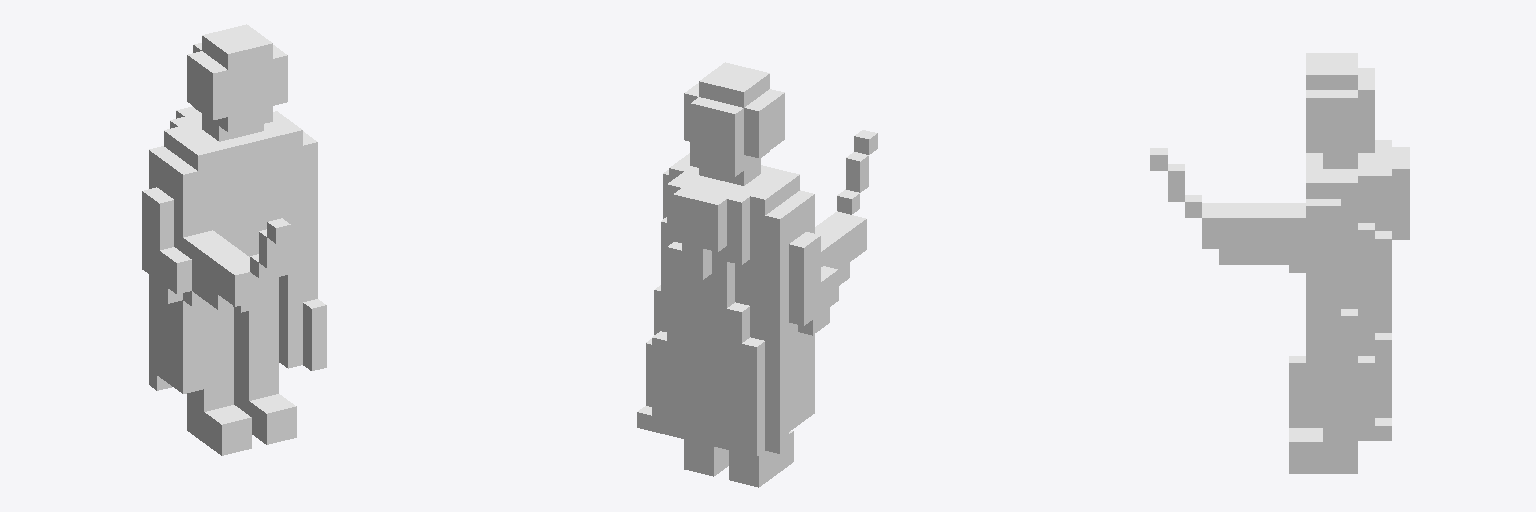
The model's file is HarryPotter.vox.obj.
The picture shows the model from 3 angles: view 1: azimuth 30°, elevation 25°; view 2: azimuth 150°, elevation 25°; view 3: azimuth 270°, elevation 25°; orthographic projection.
Parts seen in each view (by area): view 1: object 1; view 2: object 1; view 3: object 1.
Part boxes in pixels (x1,y1,x2,y2): object 1: (142,24,326,455); object 1: (637,62,877,487); object 1: (1150,53,1409,473).
Size of the model in its own units: 1 by 2.5 by 1.5.